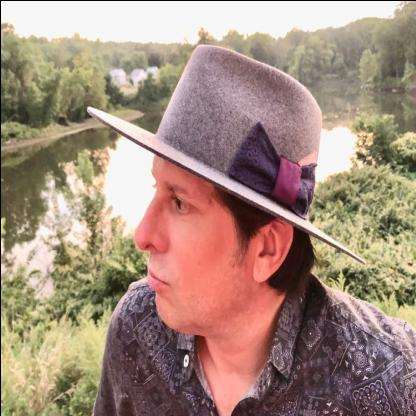hat: (78, 40, 368, 268)
